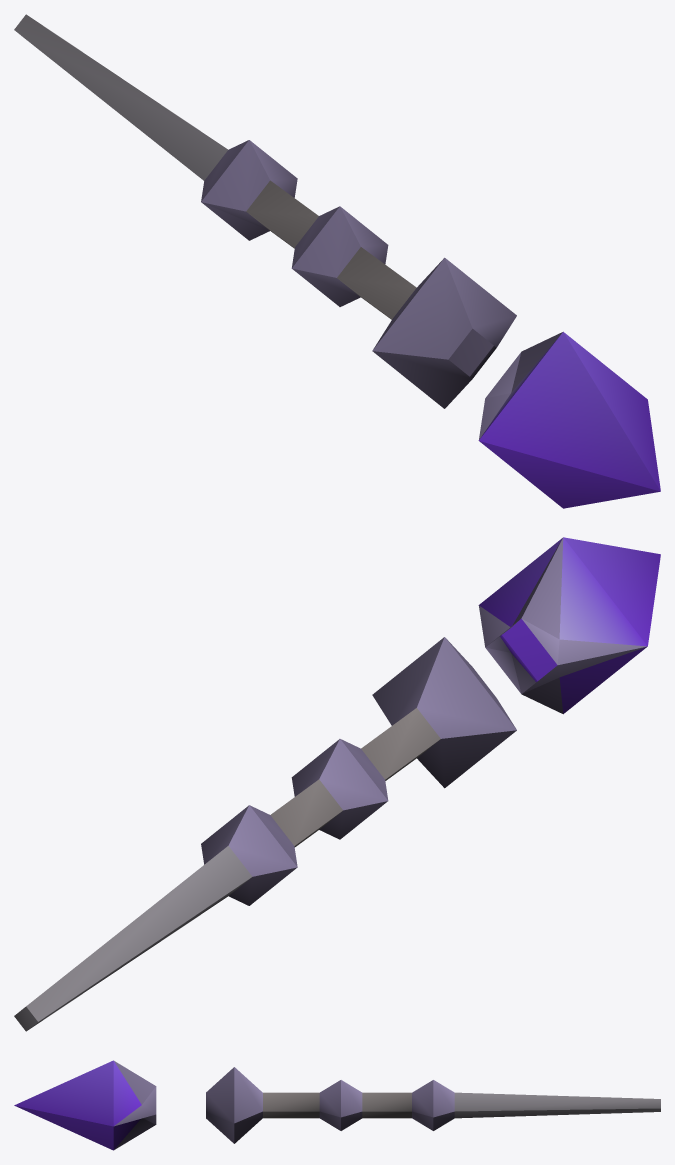
File: kodai_wand.glb
3 renders of one model, top to bottom at view 1: azimuth 30°, elevation 25°; view 2: azimuth 150°, elevation 25°; view 3: azimuth 270°, elevation 25°, orthographic. The views are drawn at different scales.
Visible parts, largest first — view 1: Kodai wand; view 2: Kodai wand; view 3: Kodai wand.
Boxes of the visible parts, box(x1,y1,x2,y2) form: Kodai wand: box(14, 14, 660, 508); Kodai wand: box(14, 537, 660, 1031); Kodai wand: box(14, 1060, 660, 1150).
Bounding box in the file's own units: 14 × 14 × 91.
